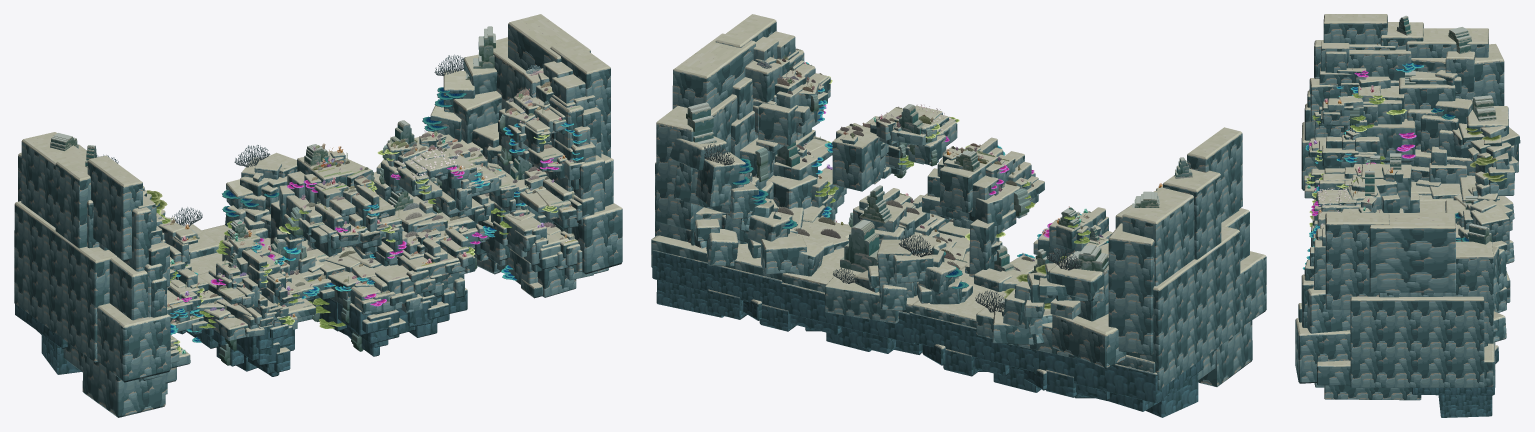
3 views of the same model, side by side, from view 1: azimuth 30°, elevation 25°; view 2: azimuth 150°, elevation 25°; view 3: azimuth 270°, elevation 25° (orthographic). The views are drawn at different scales.
Size of the model in its own units: 147 by 65.94 by 64.41.
26 materials, 26 textured.
